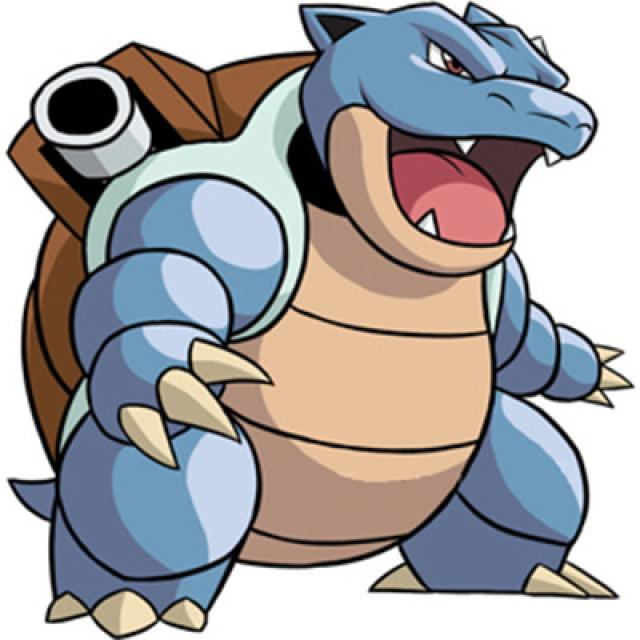Blastoise: (14, 2, 616, 600)
